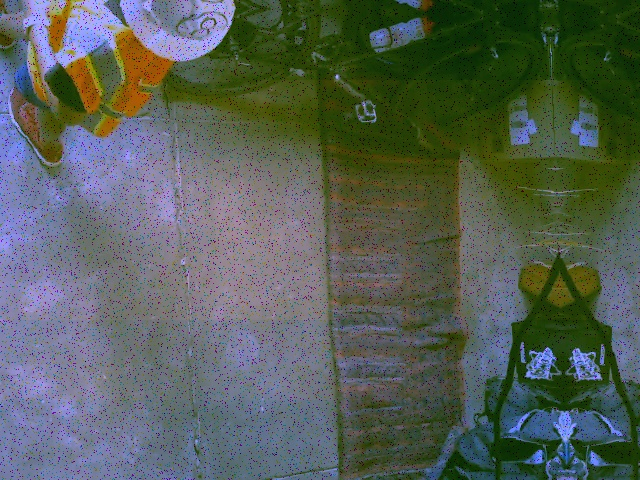eight: (175, 10, 231, 40)
